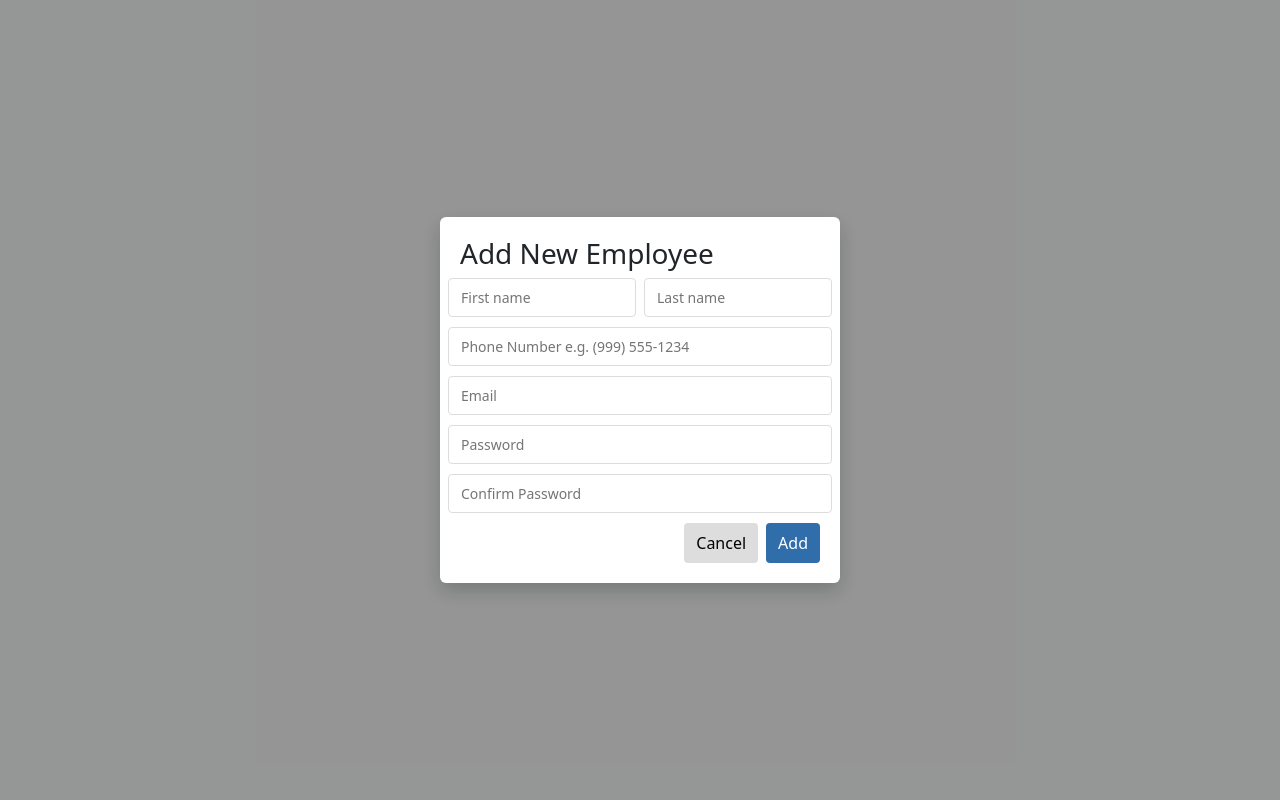
AddEmployeeForm › shows error when password is too short
In the field with placeholder "First name": (542,298) [448,278,636,317], type "John"
In the field with placeholder "Last name": (738,298) [644,278,832,317], type "Doe"
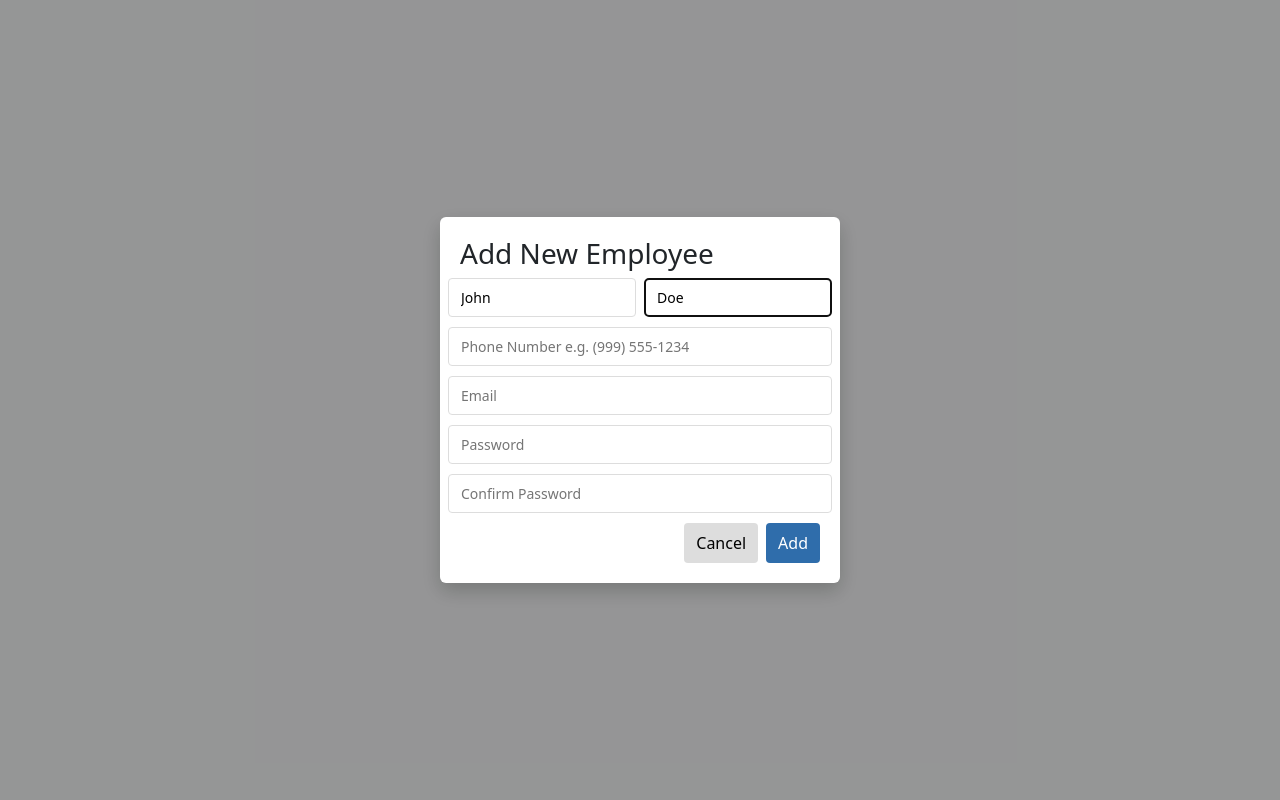
In the field with placeholder "Phone Number e.g. (999) 555-1234": (640,347) [448,327,832,366], type "1234567890"
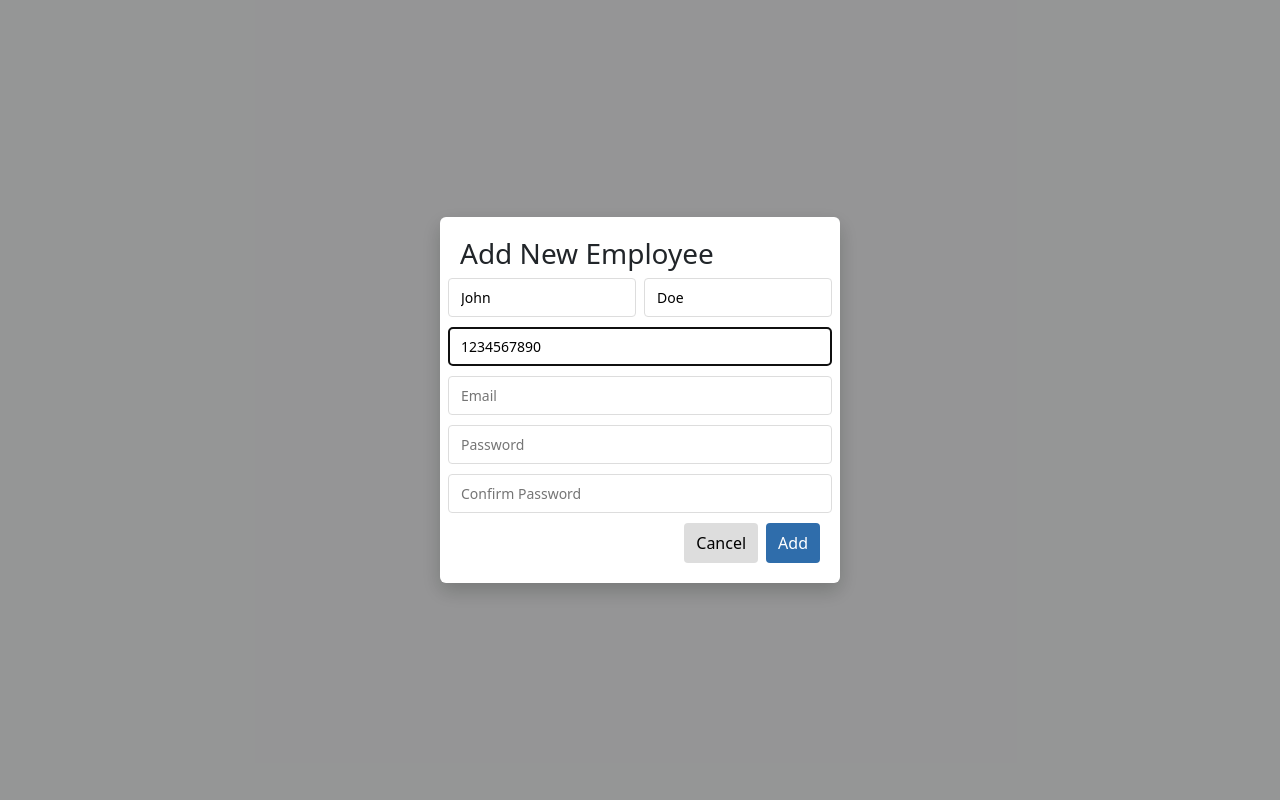
In the field with placeholder "Email": (640,396) [448,376,832,415], type "john@example.com"
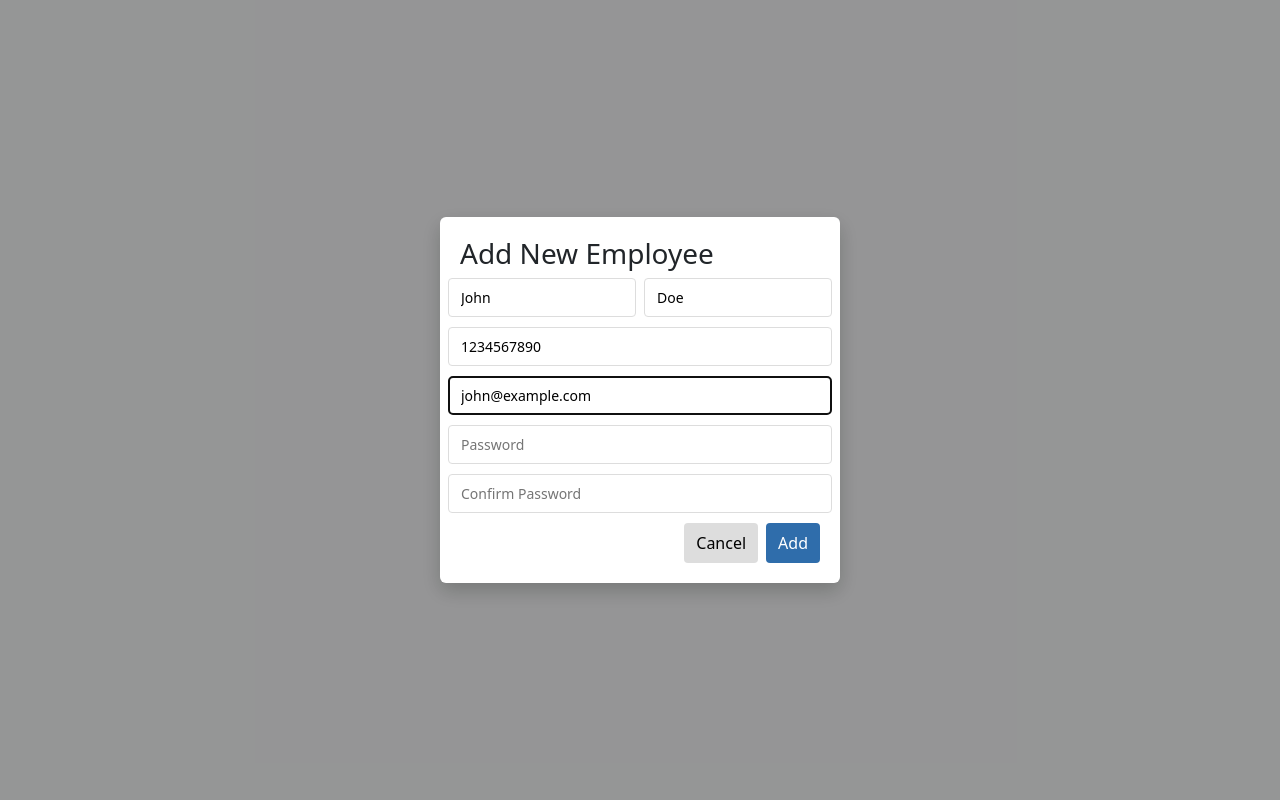
In the password field with placeholder "Password": (640,445) [448,425,832,464], type "short1"
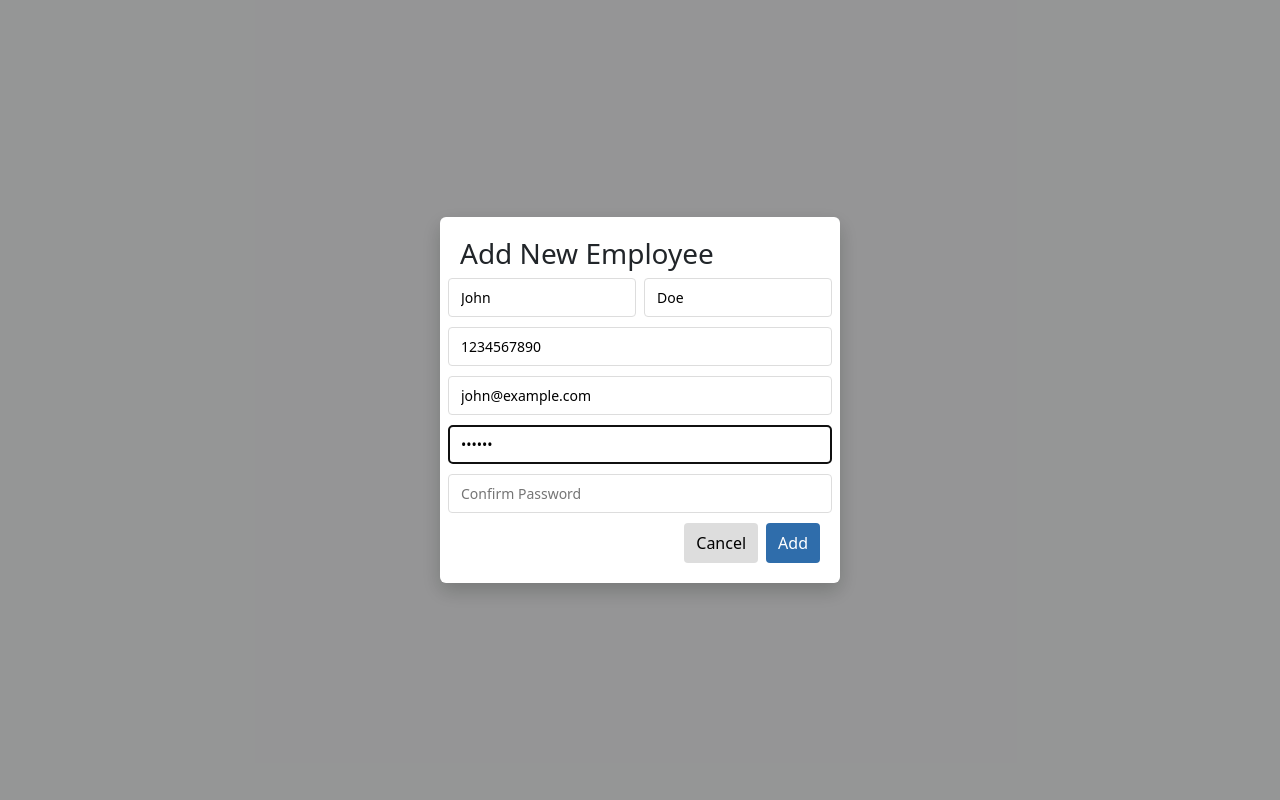
In the password field with placeholder "Confirm Password": (640,494) [448,474,832,513], type "short1"
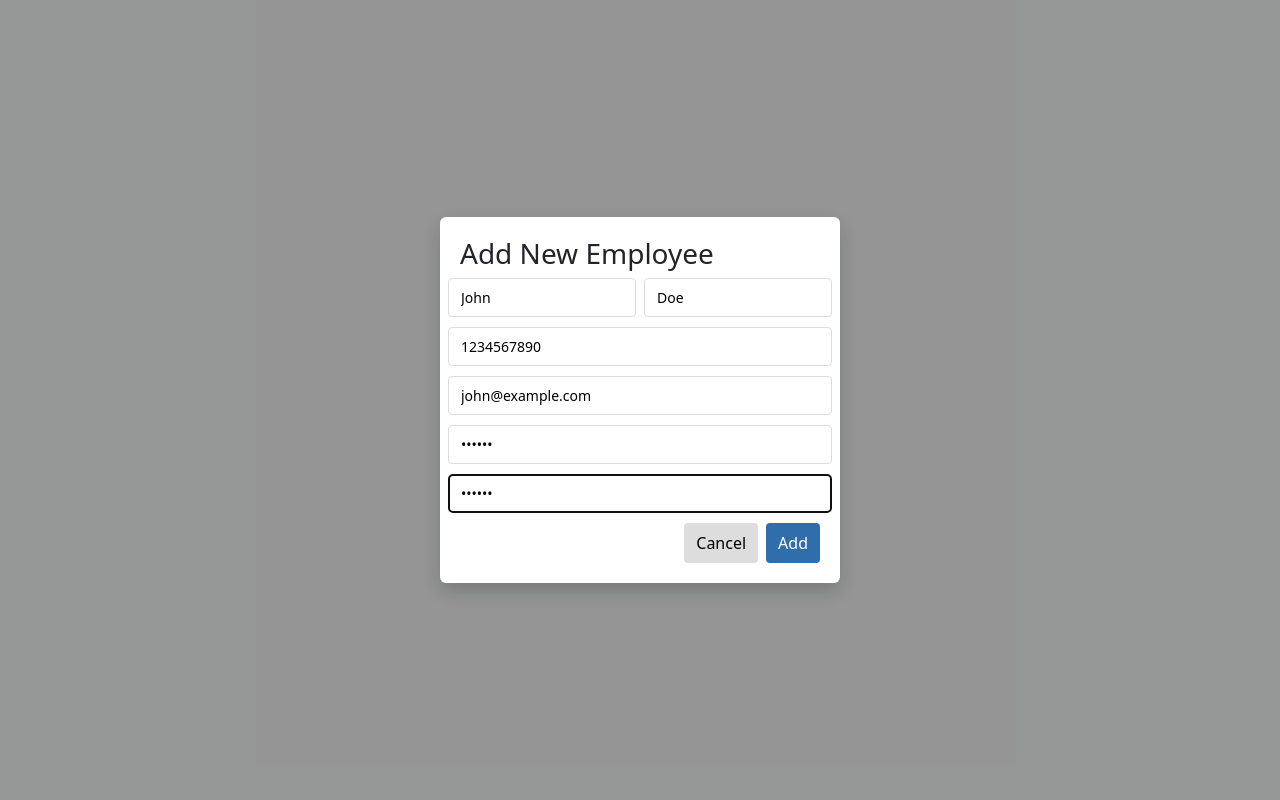
Click the button "Add": (793,543) [766,523,820,563]
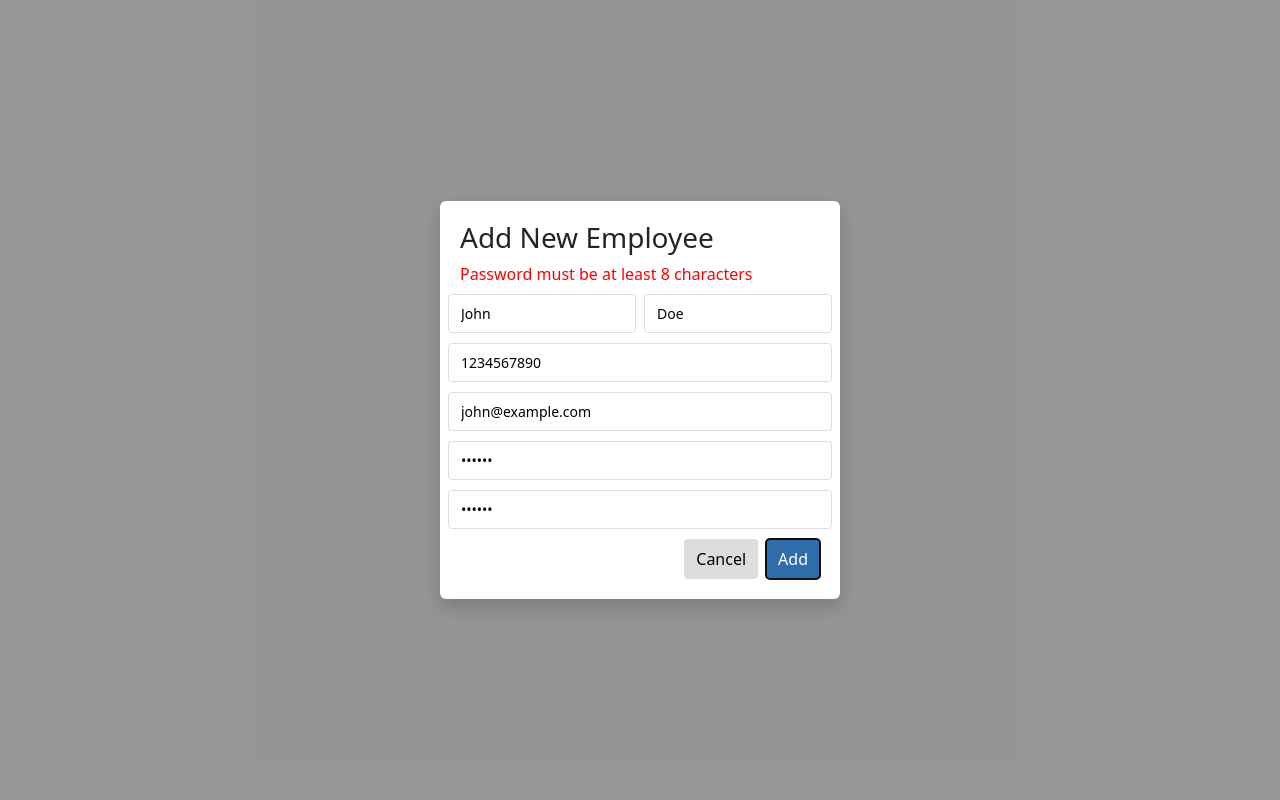
expect the text "Password must be at least 8 characters" is shown: met, box [460,263,752,285]
